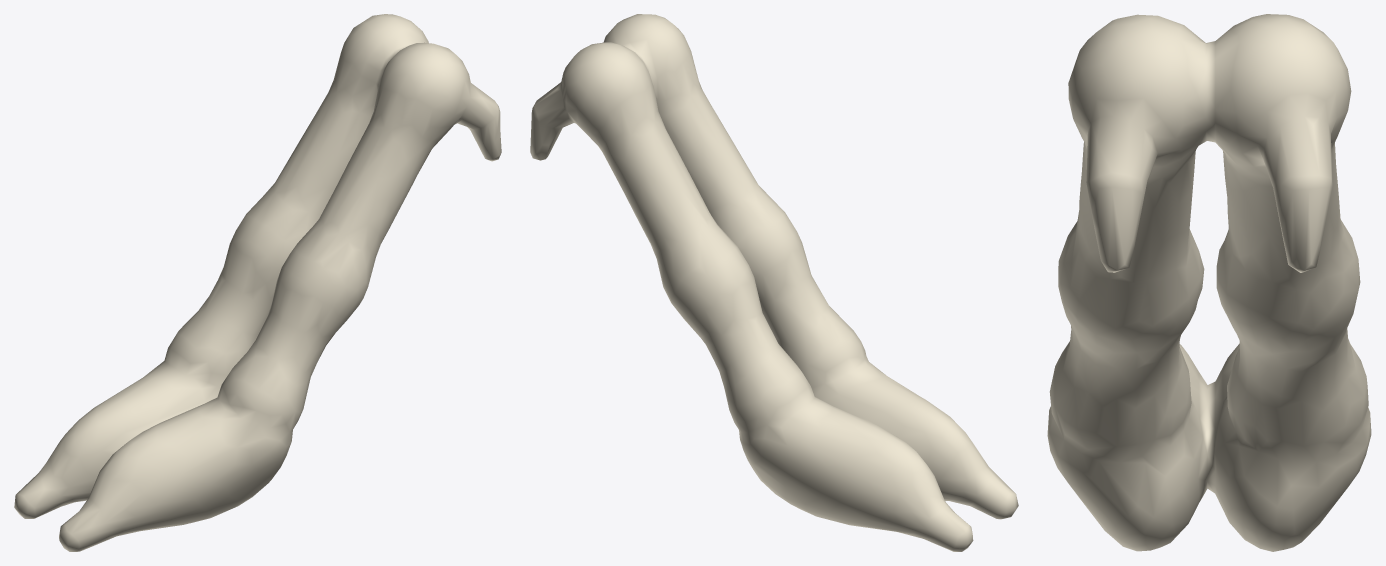
File: forefoot_l.glb
The picture shows the model from 3 angles, left to right: view 1: azimuth 30°, elevation 25°; view 2: azimuth 150°, elevation 25°; view 3: azimuth 270°, elevation 25°; orthographic projection. The views are drawn at different scales.
Parts seen in each view (by area): view 1: geometry_0; view 2: geometry_0; view 3: geometry_0.
Boxes of the visible parts, x1,y1,x2,y2 form: geometry_0: (14,14,501,551); geometry_0: (530,14,1018,551); geometry_0: (1047,14,1371,551).
Size of the model in its own units: 0.3596 by 0.3291 by 0.139.
